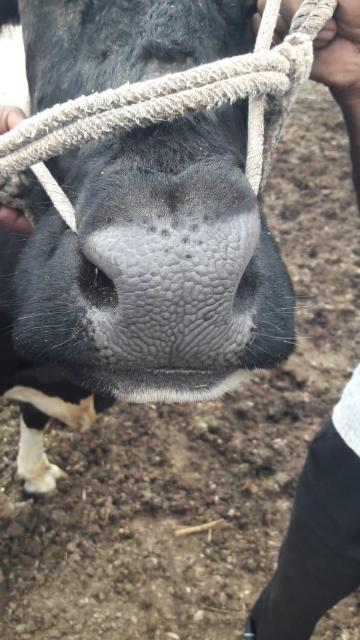Muzzle: (98, 237, 248, 363)
